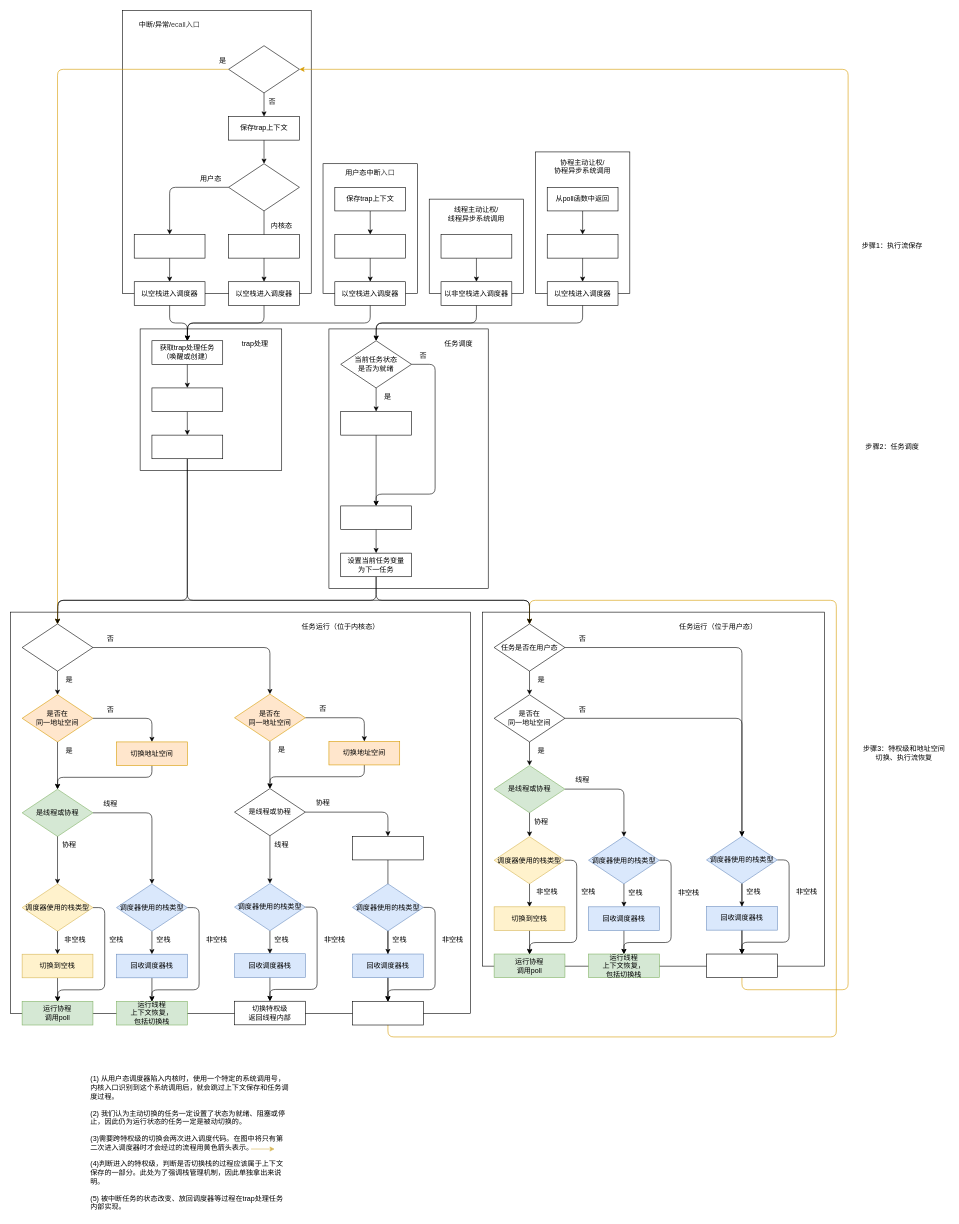
This 959x1224 diagram has some shape labels left out. The shapes that lost their labels are listed below. From the top down, each one's box as (x1, y1, x2, y2) in pixels, then its label:
(228, 45, 299, 93): 是否是特定的 系统调用(1)
(228, 163, 299, 211): 从何种特权级进入 (4)
(134, 234, 205, 258): 切换到内核栈
(228, 234, 299, 258): 切换内核栈
(334, 234, 406, 258): 切换栈
(440, 234, 512, 258): 保存线程上下文
(547, 234, 618, 258): 根据返回值修改 任务状态
(151, 387, 223, 412): 设置当前任务变量 为 trap处理任务
(340, 411, 412, 435): 当前任务 放回调度器
(151, 435, 223, 459): 向trap处理任务传入 原任务和trap参数(5)
(340, 505, 412, 530): 从调度器取出 下一任务
(22, 623, 93, 671): 任务是否在内核态
(352, 836, 423, 860): 为用户态调度器 分配栈
(706, 953, 777, 978): 切换特权级 进入内核态调度器(1)
(352, 1001, 423, 1025): 切换特权级 以空栈返回 用户态调度器
